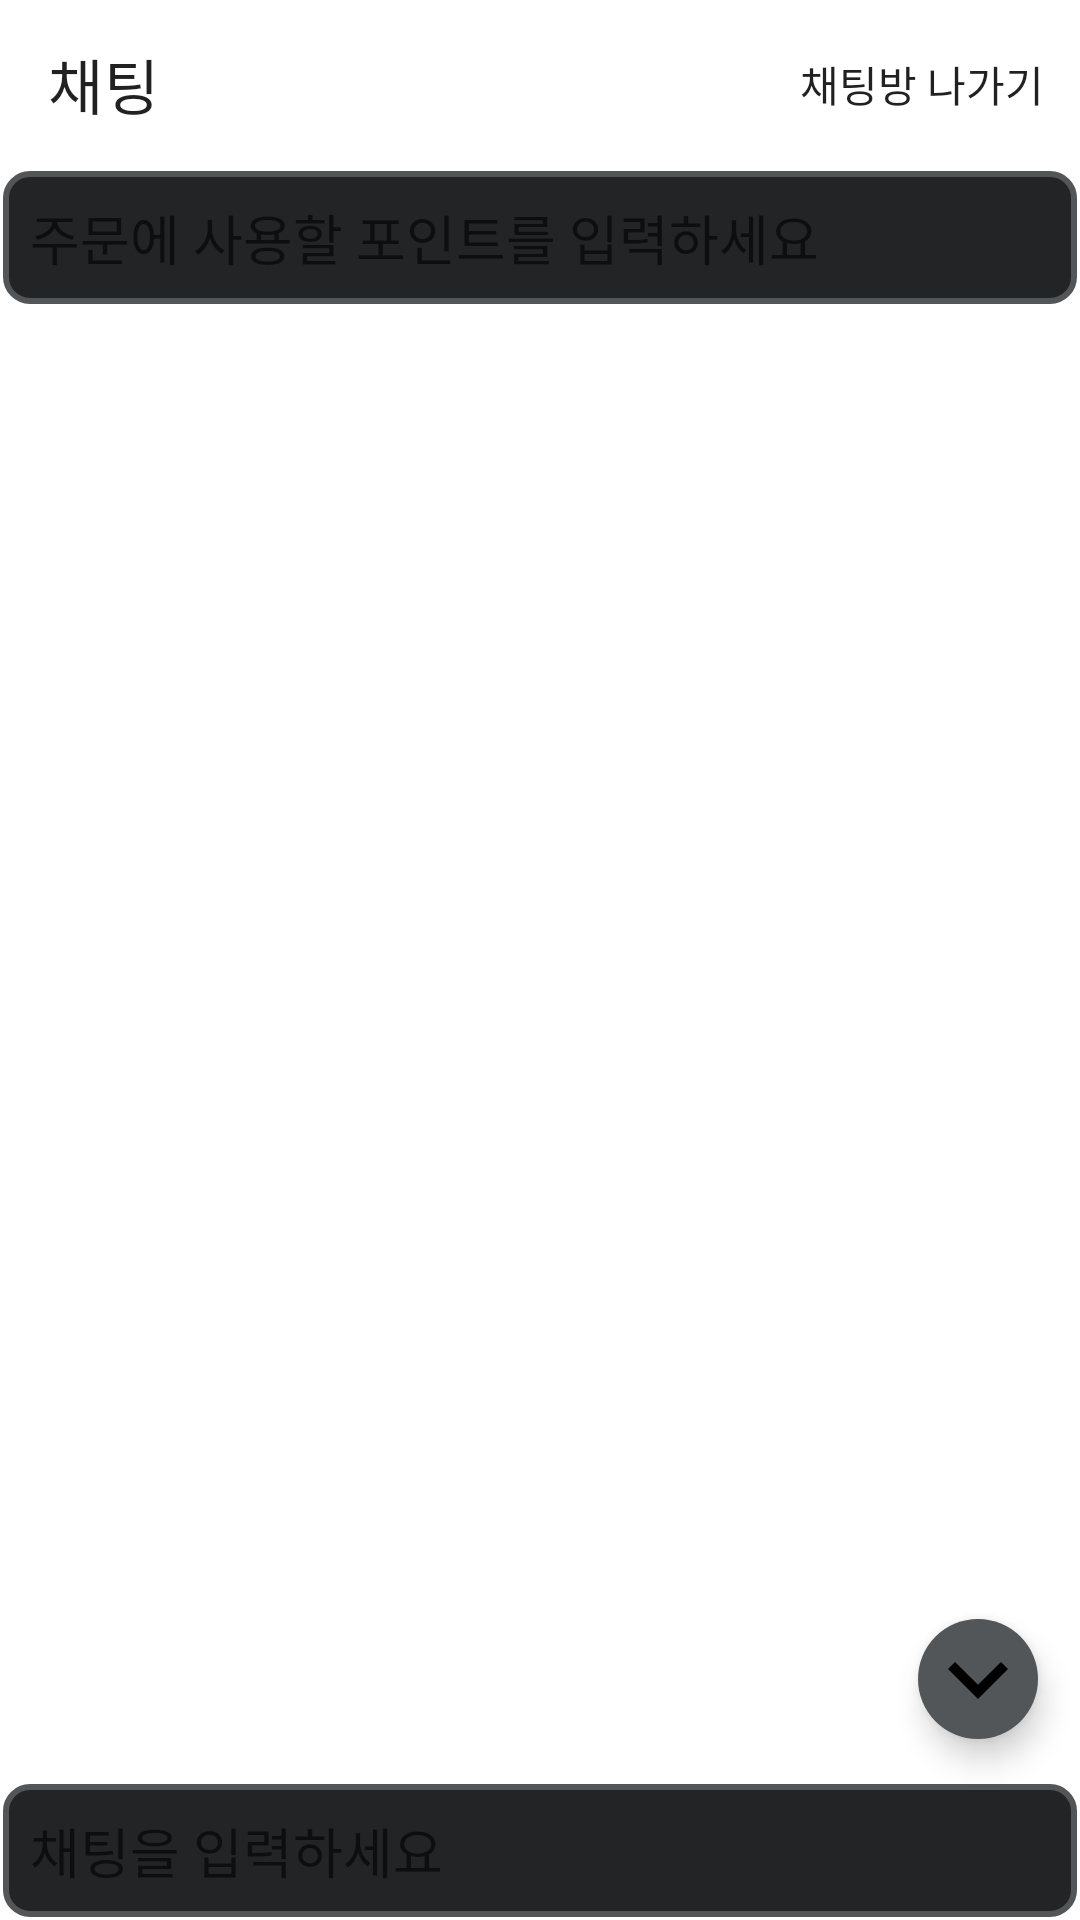

Locate icon controls on the screen. Image size 1080w x 1920h, boxes as [left=x1, top=y1, right=x2, bottom=y2].
down: [left=918, top=1619, right=1041, bottom=1751]
